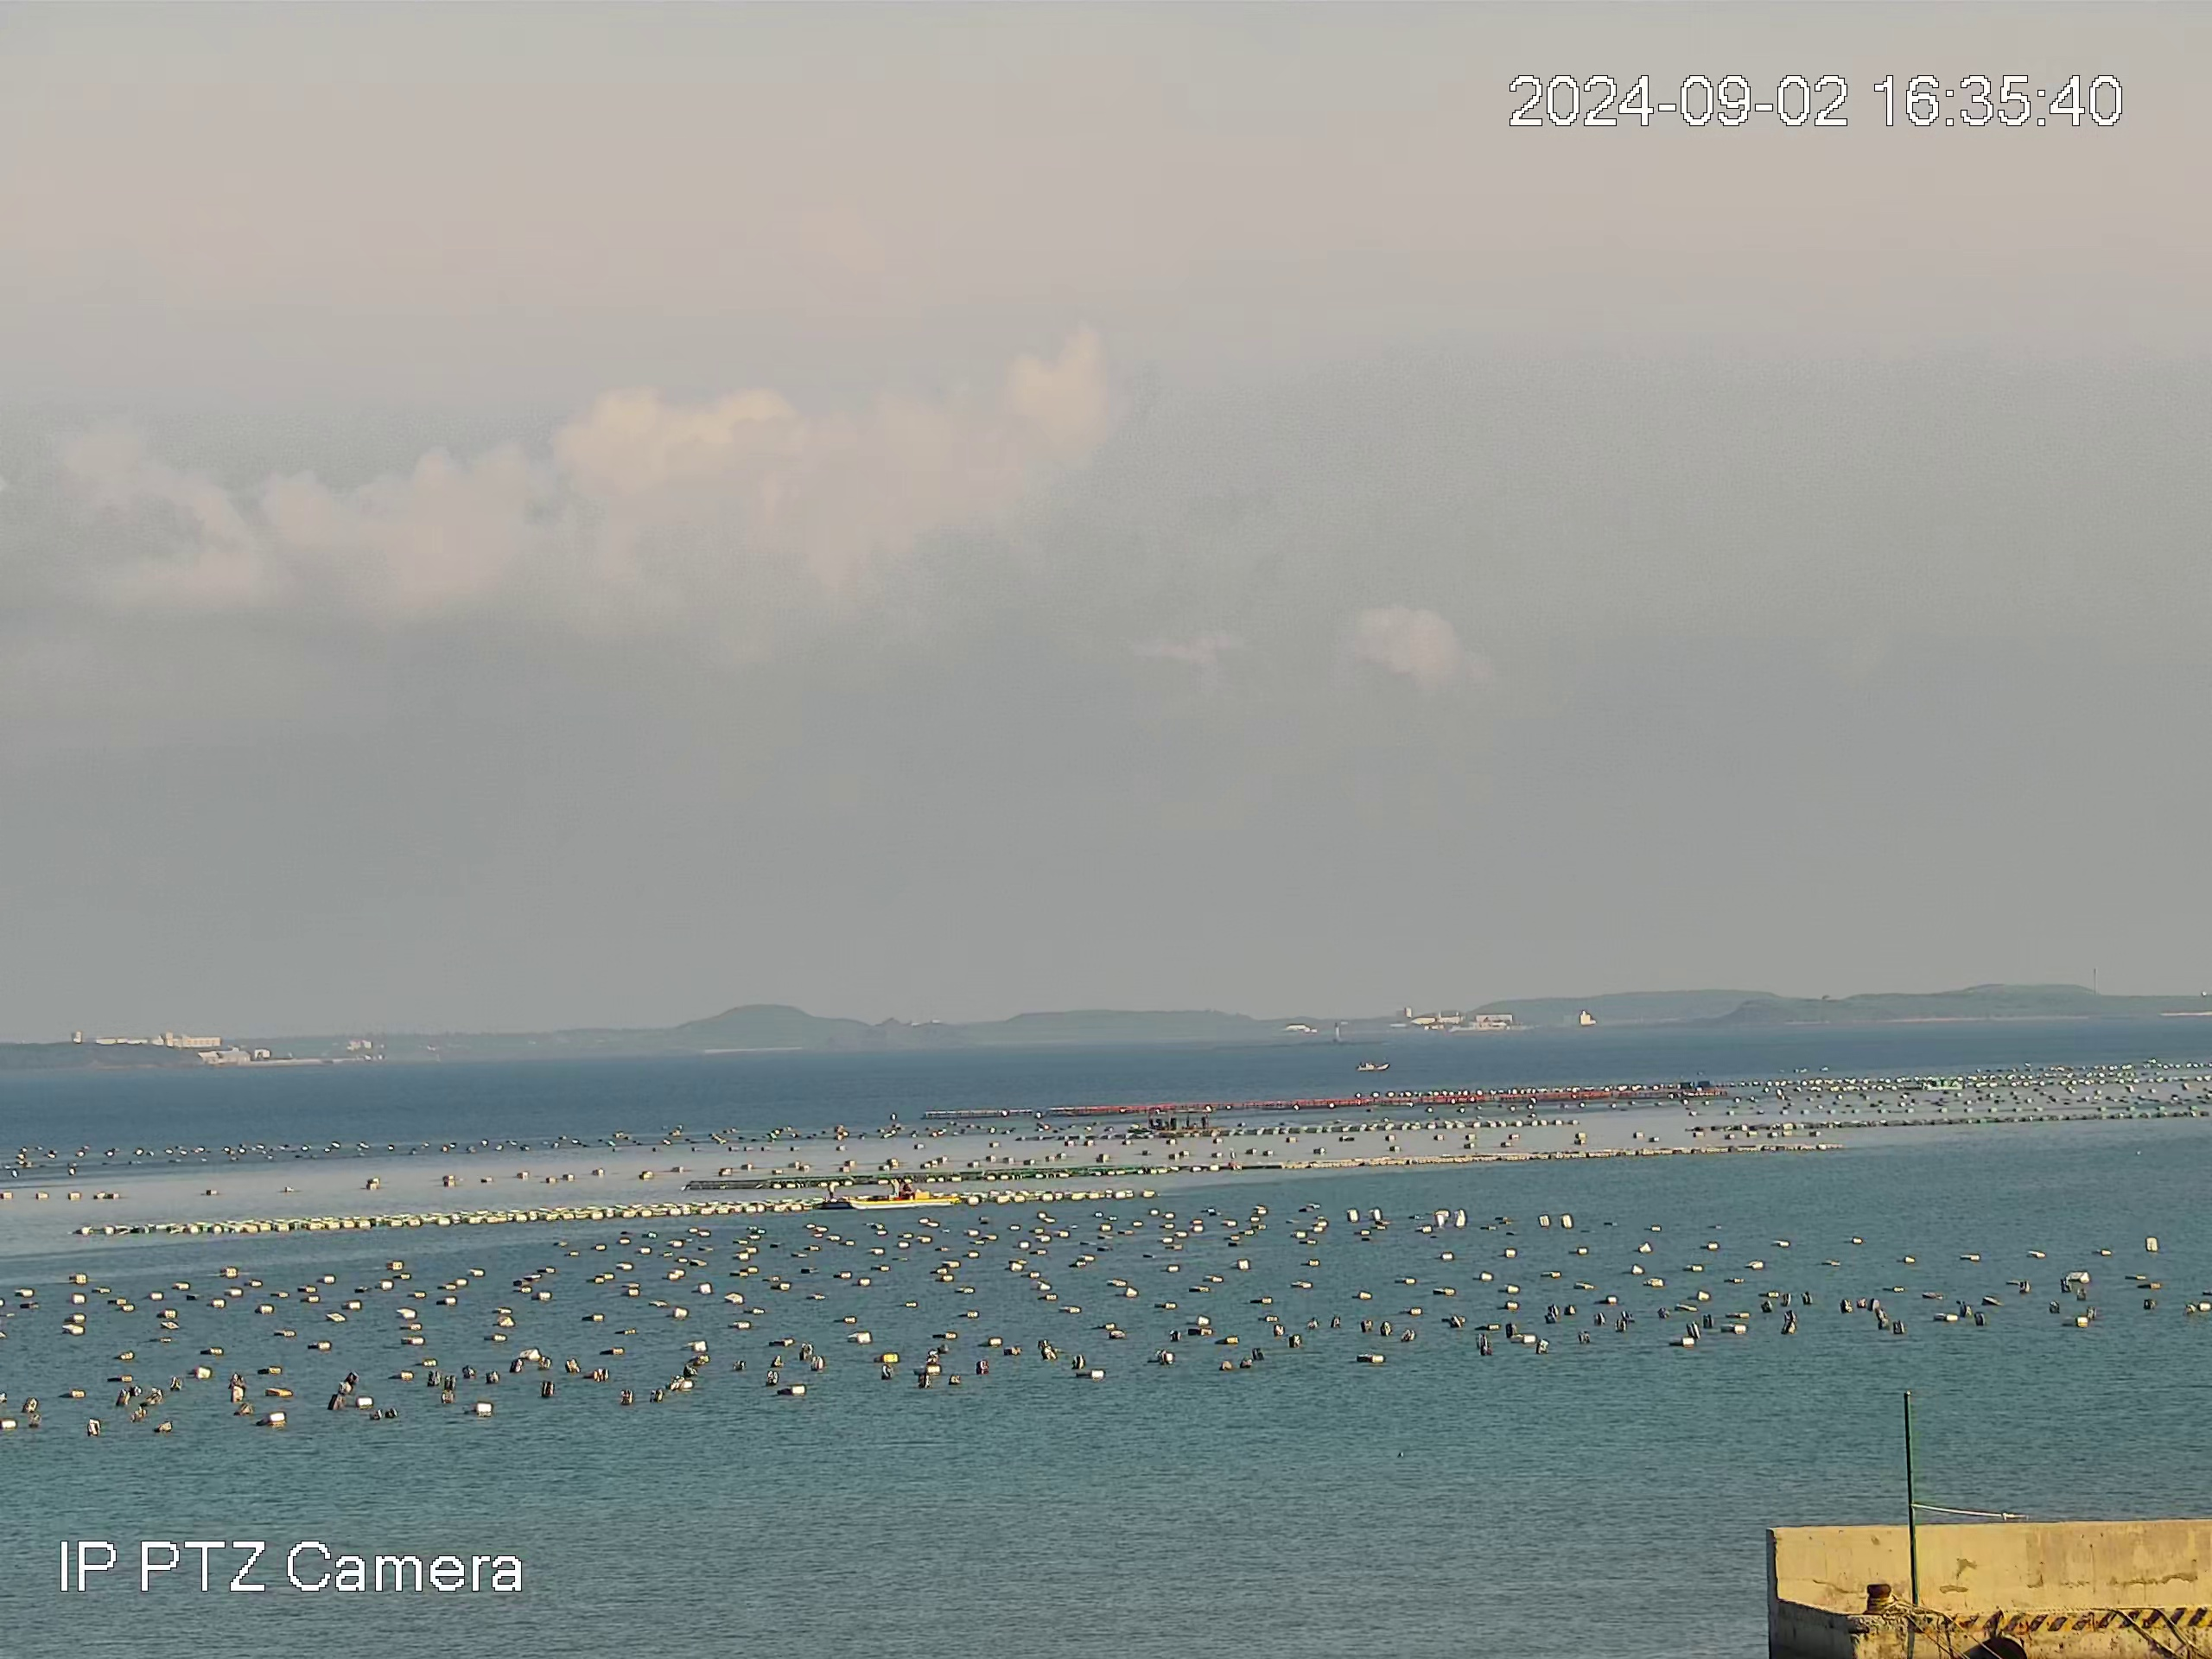boat: (843, 1176, 961, 1211), (1148, 1107, 1216, 1134), (1355, 1060, 1390, 1072)
